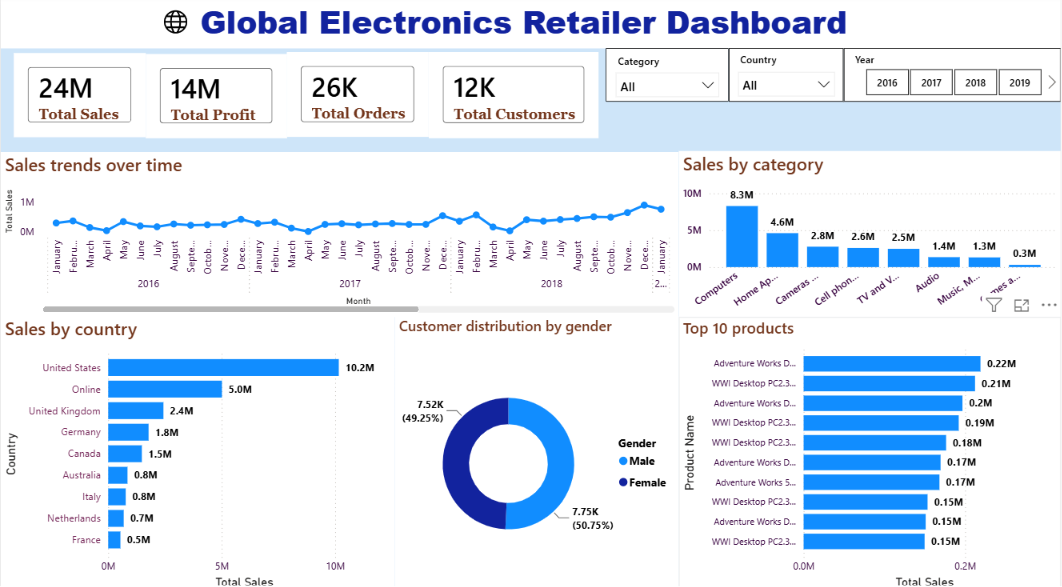

The page's visual inventory and layout, read from the dashboard file:
{"tool":"powerbi","page":{"name":"Page 1","canvas":[1280,720],"ordinal":0},"visuals":[{"type":"cardVisual","fields":{"Data":["Customer Details.Total Sales"]},"box":[15.7,68.8,159.3,101.3],"z":0},{"type":"cardVisual","fields":{"Data":["Customer Details.Total Profit"]},"box":[174.9,70,170.1,101.3],"z":1000},{"type":"cardVisual","fields":{"Data":["Customer Details.Total Orders"]},"box":[345,67.6,171.3,102.5],"z":2000},{"type":"cardVisual","fields":{"Data":["Customer Details.Total Customers"]},"box":[516.4,67.6,205.1,103.8],"z":3000},{"type":"clusteredColumnChart","title":"Sales by category","fields":{"Category":["Products.Category"],"Y":["Customer Details.Total Sales"]},"box":[818,187,462.1,200.3],"z":4000},{"type":"clusteredBarChart","title":"Sales by country","fields":{"Category":["Stores.Country"],"Y":["Customer Details.Total Sales"]},"box":[0,386.1,475.3,334.2],"z":5000},{"type":"lineChart","title":"Sales trends over time","fields":{"Category":["Date Table.Year","Date Table.Month"],"Y":["Customer Details.Total Sales"]},"box":[0,188.2,818,199.1],"z":6000},{"type":"clusteredBarChart","title":"Top 10 products","fields":{"Category":["Products.Product Name"],"Y":["Customer Details.Total Sales"]},"box":[818,387.3,462.1,333],"z":7000},{"type":"donutChart","title":"Customer distribution by gender","fields":{"Category":["Customer Details.Gender"],"Y":["Count(Customer Details.CustomerKey)"]},"box":[475.3,386.1,342.6,334.2],"z":8000},{"type":"textbox","box":[0,0,1280.3,63.1],"z":9000},{"type":"slicer","fields":{"Values":["Date Table.Year"]},"box":[1017,62.7,263,65.1],"z":10000},{"type":"slicer","fields":{"Values":["Products.Category"]},"box":[729.9,62.7,148.4,65.1],"z":11000},{"type":"slicer","fields":{"Values":["Stores.Country"]},"box":[878.3,62.7,138.7,65.1],"z":12000},{"type":"actionButton","box":[0,0,100,40],"z":13000},{"type":"image","box":[168.9,0,84.5,62.7],"z":14000}]}

Visuals, with their boxes in screenshot pixels (x1, y1, x2, y2), scaled from the page's 1280x720 canvas onto the 1062x587 screenshot:
cardVisual - Customer Details.Total Sales: x1=13 y1=56 x2=145 y2=139
cardVisual - Customer Details.Total Profit: x1=145 y1=57 x2=286 y2=140
cardVisual - Customer Details.Total Orders: x1=286 y1=55 x2=428 y2=139
cardVisual - Customer Details.Total Customers: x1=428 y1=55 x2=599 y2=140
"Sales by category" clusteredColumnChart: x1=679 y1=152 x2=1061 y2=316
"Sales by country" clusteredBarChart: x1=0 y1=315 x2=394 y2=586
"Sales trends over time" lineChart: x1=0 y1=153 x2=679 y2=316
"Top 10 products" clusteredBarChart: x1=679 y1=316 x2=1061 y2=586
"Customer distribution by gender" donutChart: x1=394 y1=315 x2=679 y2=586
textbox: x1=0 y1=0 x2=1061 y2=51
slicer - Date Table.Year: x1=844 y1=51 x2=1061 y2=104
slicer - Products.Category: x1=606 y1=51 x2=729 y2=104
slicer - Stores.Country: x1=729 y1=51 x2=844 y2=104
actionButton: x1=0 y1=0 x2=83 y2=33
image: x1=140 y1=0 x2=210 y2=51
